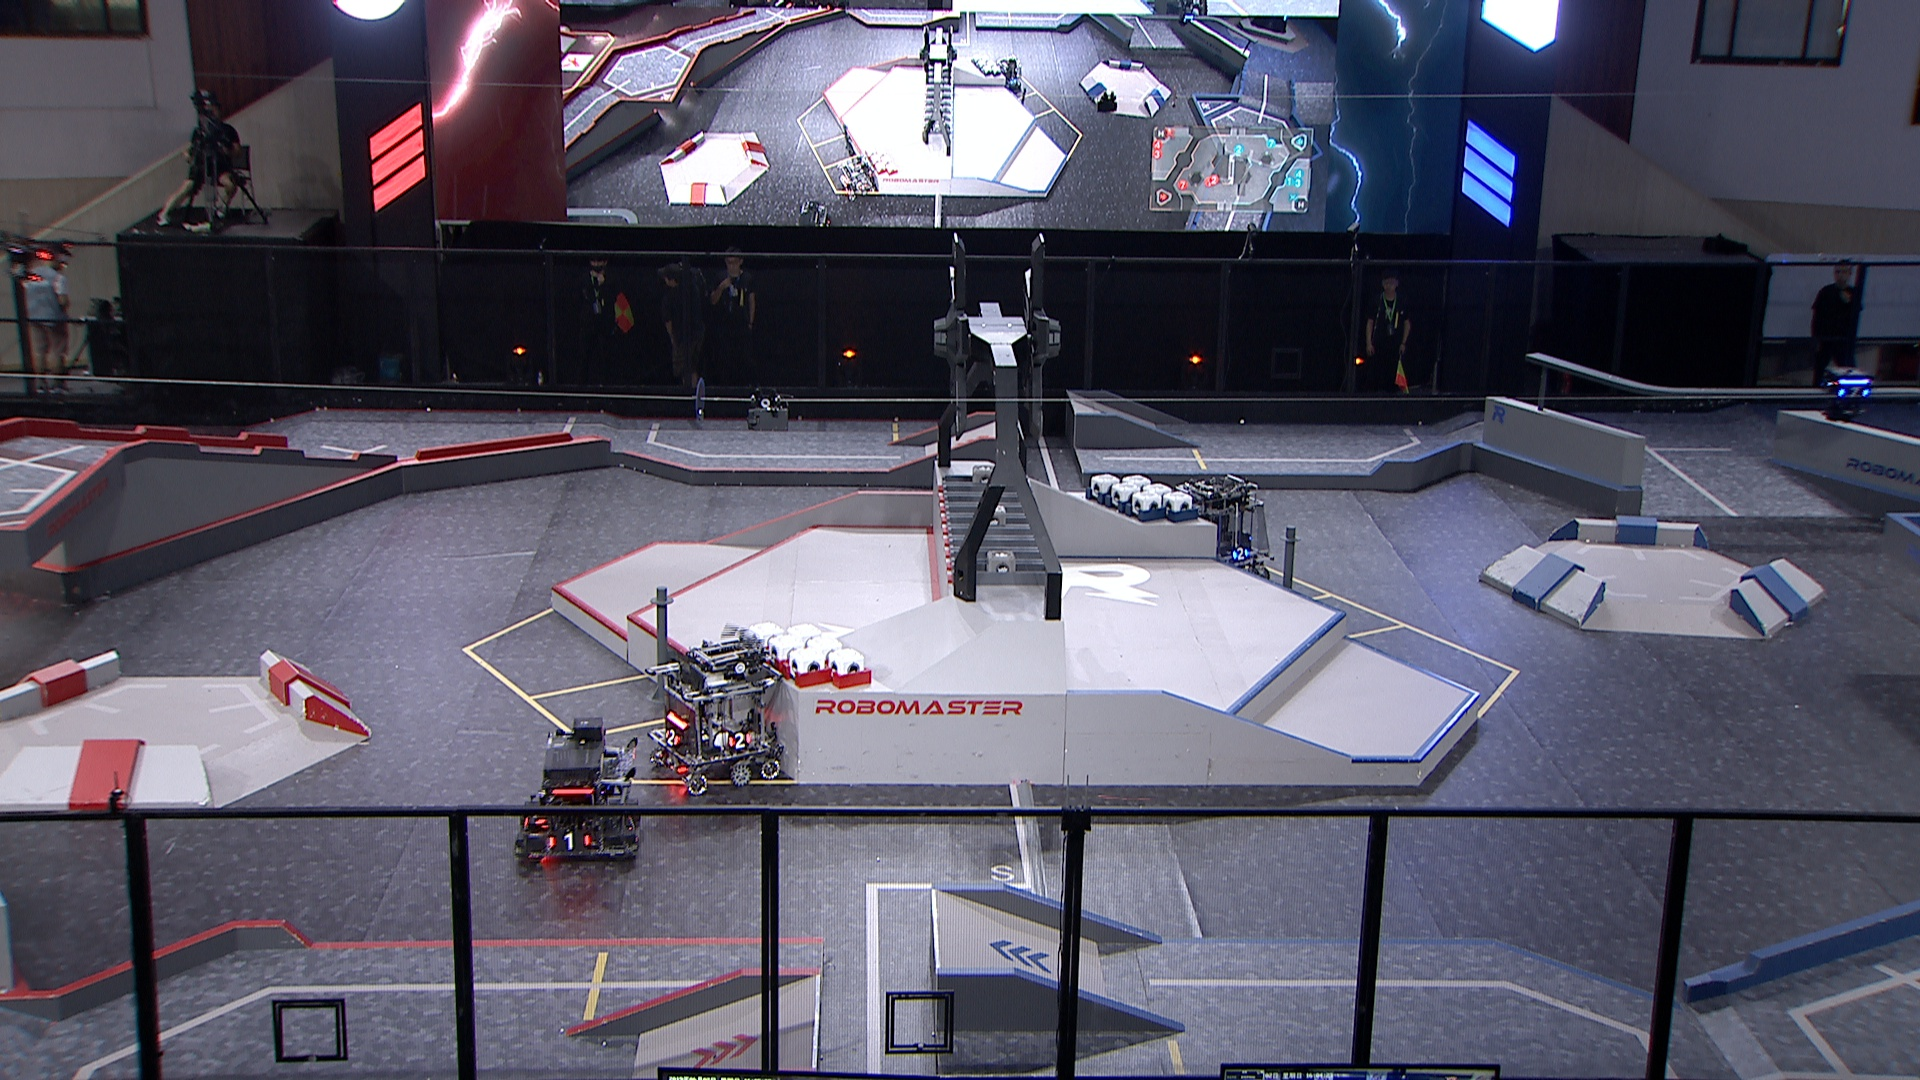armor: (549, 832, 591, 853), (1837, 385, 1871, 400), (727, 732, 752, 752), (662, 727, 680, 749), (626, 815, 641, 833)
car: (647, 632, 785, 796), (513, 716, 642, 865), (1174, 473, 1276, 583)
ignore: (840, 157, 876, 196), (998, 54, 1025, 92), (798, 200, 831, 228), (1253, 15, 1292, 36), (1179, 8, 1196, 26)
watcher: (1822, 367, 1875, 423)
